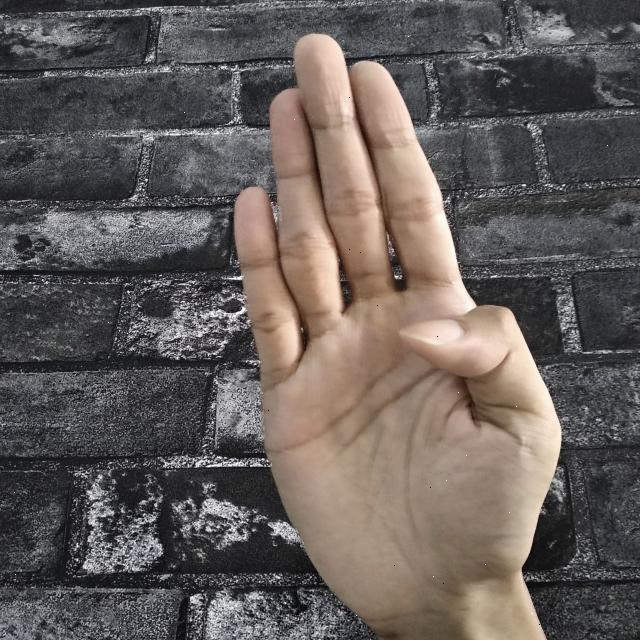B: (233, 31, 566, 640)
